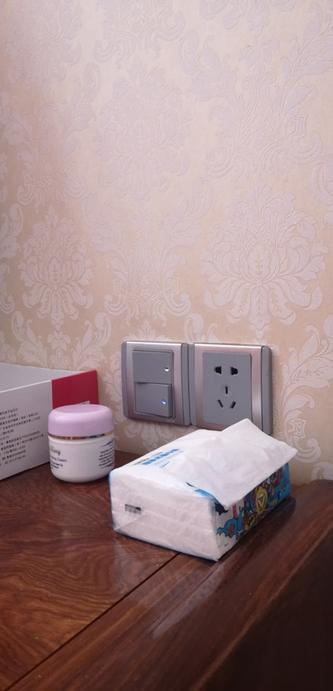switch: (131, 387, 182, 420), (128, 351, 169, 381)
